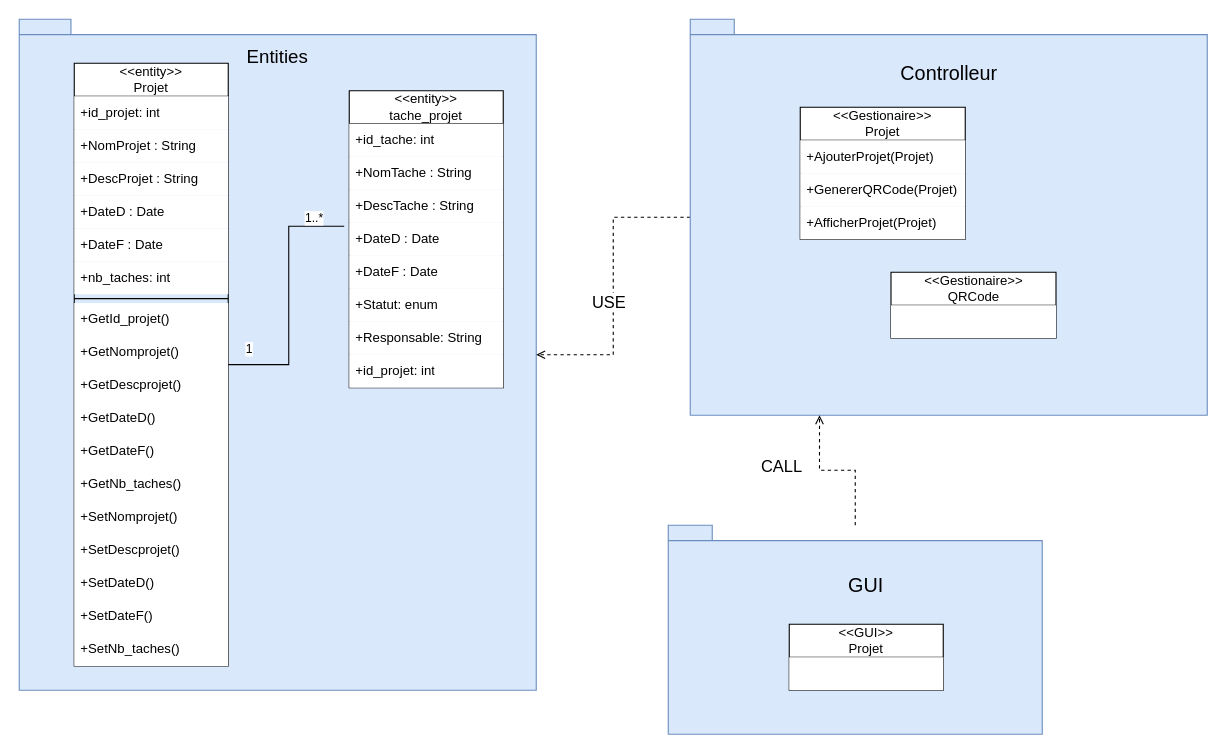
This 1227x754 diagram has some shape labels left out. Each missing label, with the centre of its shape:
+AjouterProjet(): point (866, 673)
+GenerateQRCode(Projet): point (972, 321)
